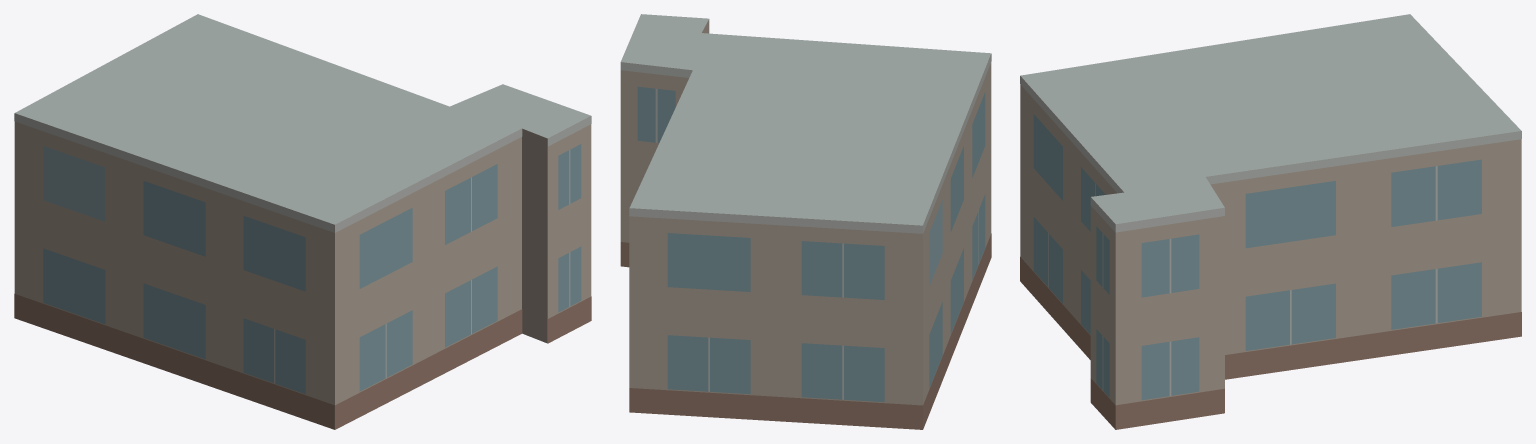
File: survey-upis-32503650.glb
The picture shows the model from 3 angles, left to right: view 1: azimuth 30°, elevation 25°; view 2: azimuth 150°, elevation 25°; view 3: azimuth 270°, elevation 25°; orthographic projection.
Parts seen in each view (by area): view 1: survey-upis-32503650.tmp; view 2: survey-upis-32503650.tmp; view 3: survey-upis-32503650.tmp.
Part boxes in pixels (box(x1,y1,x2,y2)): survey-upis-32503650.tmp: box(14, 14, 591, 429); survey-upis-32503650.tmp: box(620, 14, 991, 429); survey-upis-32503650.tmp: box(1020, 14, 1521, 429).
Bounding box in the file's own units: 13.4 × 6.1 × 13.5.
